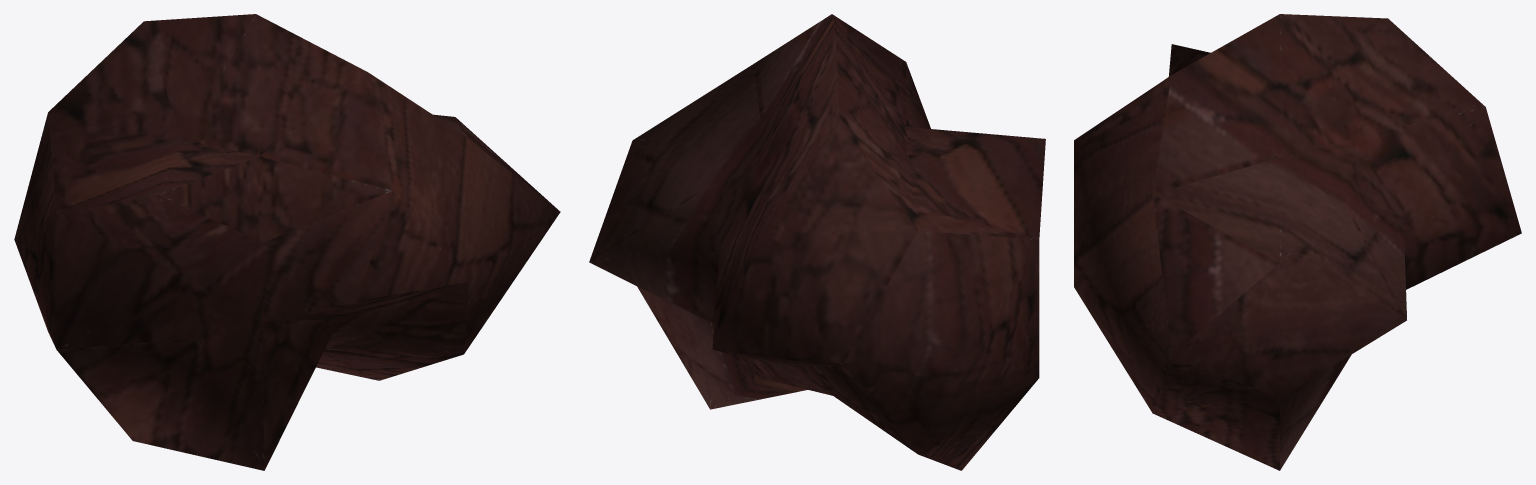
The model's file is Stein_1.fbx.
The picture shows the model from 3 angles, left to right: view 1: azimuth 30°, elevation 25°; view 2: azimuth 150°, elevation 25°; view 3: azimuth 270°, elevation 25°; orthographic projection. The views are drawn at different scales.
Parts seen in each view (by area): view 1: Stein_1; view 2: Stein_1; view 3: Stein_1.
Part boxes in pixels (bbox=[...]): Stein_1: bbox=[14, 14, 560, 470]; Stein_1: bbox=[589, 14, 1045, 470]; Stein_1: bbox=[1074, 14, 1521, 470].
Bounding box in the file's own units: 0.5351 × 0.4512 × 0.4616.
1 material, 1 textured.
